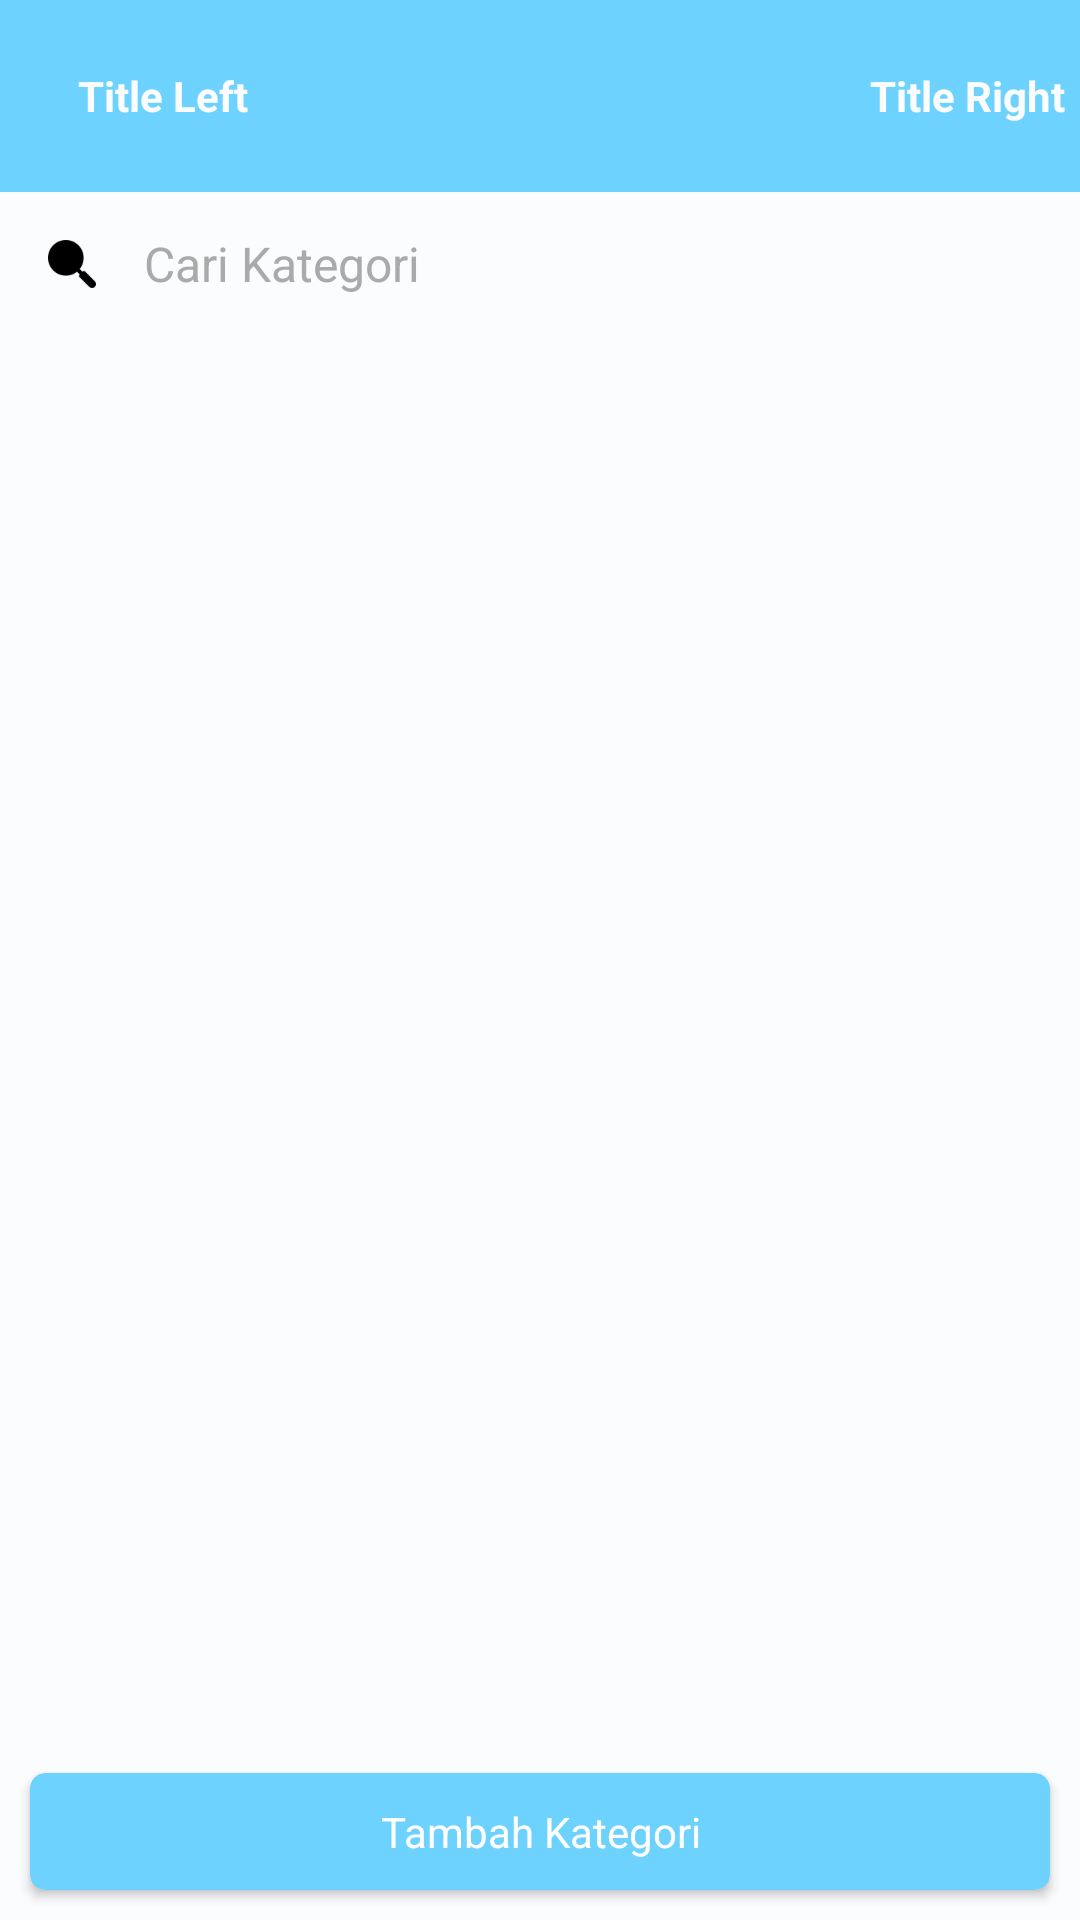

Icon click points for this 1080x1920 phone screenshot, format [x,y]:
search: [72,264]
